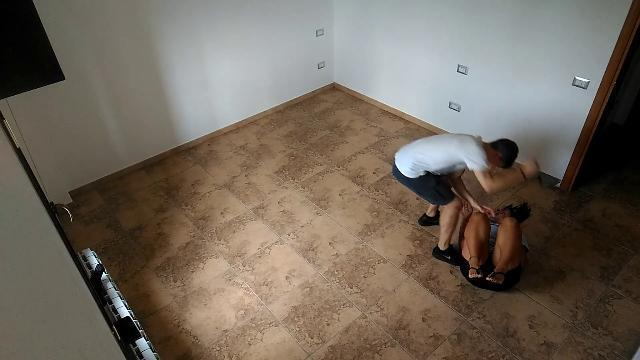knife: (532, 170, 544, 184)
violence: (390, 132, 542, 288)
